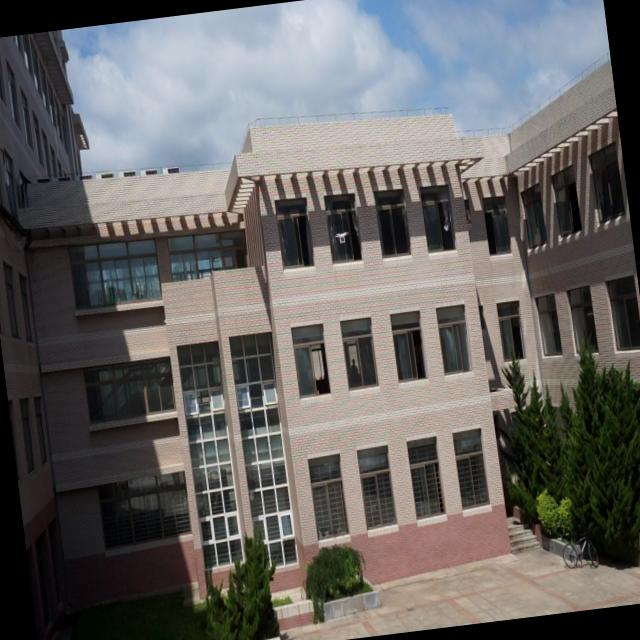drone: (333, 228, 350, 248)
